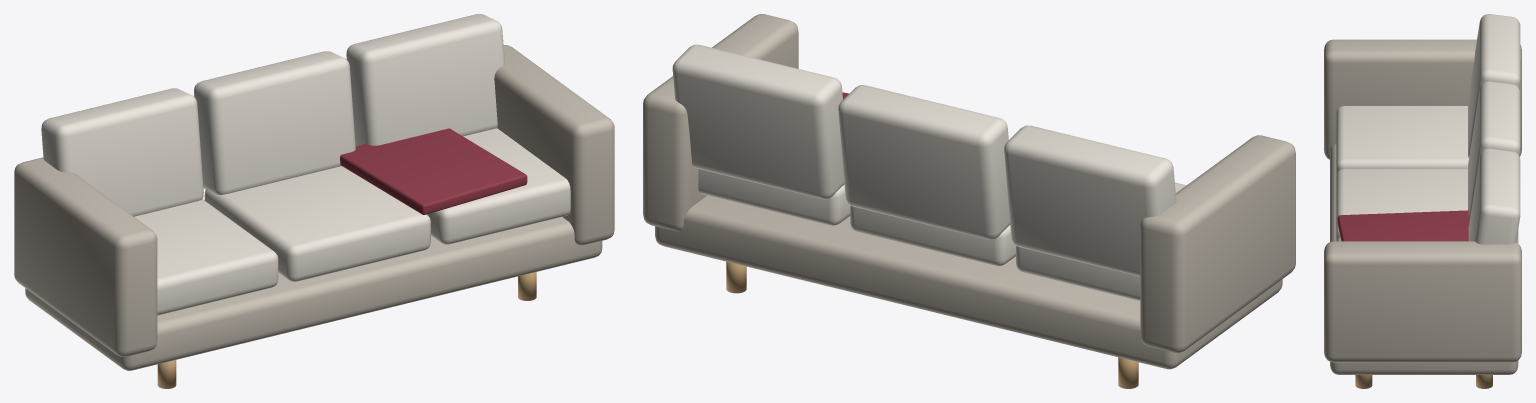
The model's file is sofa.glb.
3 renders of one model, left to right at view 1: azimuth 30°, elevation 25°; view 2: azimuth 150°, elevation 25°; view 3: azimuth 270°, elevation 25°, orthographic. The views are drawn at different scales.
Parts seen in each view (by area): view 1: CANONICAL frame, CANONICAL arm, CANONICAL back 2, CANONICAL back 3, CANONICAL seat 2, CANONICAL back 1, CANONICAL arm.001, CANONICAL seat 1, ACCENT throw, CANONICAL seat 3, ACCENT oak foot; view 2: CANONICAL frame, CANONICAL arm, CANONICAL back 2, CANONICAL back 3, CANONICAL back 1, CANONICAL arm.001, CANONICAL seat 2, CANONICAL seat 3, CANONICAL seat 1, ACCENT oak foot.001, ACCENT oak foot.003; view 3: CANONICAL arm.001, CANONICAL arm, CANONICAL seat 1, CANONICAL seat 2, CANONICAL back 3, ACCENT throw, CANONICAL back 1, CANONICAL back 2, CANONICAL frame, ACCENT oak foot.002, ACCENT oak foot.003.
Boxes of the visible parts, box(x1,y1,x2,y2) form: CANONICAL frame: box(25, 217, 602, 370); CANONICAL arm: box(14, 157, 157, 356); CANONICAL back 2: box(194, 51, 355, 194); CANONICAL back 3: box(346, 14, 504, 146); CANONICAL seat 2: box(204, 166, 430, 281); CANONICAL back 1: box(41, 88, 203, 216); CANONICAL arm.001: box(494, 45, 614, 245); CANONICAL seat 1: box(134, 199, 278, 315); ACCENT throw: box(340, 128, 527, 214); CANONICAL seat 3: box(427, 128, 570, 244); ACCENT oak foot: box(157, 360, 176, 388); CANONICAL frame: box(655, 195, 1282, 369); CANONICAL arm: box(1140, 135, 1295, 353); CANONICAL back 2: box(838, 85, 1010, 239); CANONICAL back 3: box(672, 44, 844, 199); CANONICAL back 1: box(1004, 125, 1176, 276); CANONICAL arm.001: box(643, 14, 798, 231); CANONICAL seat 2: box(850, 205, 1015, 266); CANONICAL seat 3: box(698, 169, 850, 225); CANONICAL seat 1: box(1016, 182, 1186, 300); ACCENT oak foot.001: box(1118, 357, 1138, 388); ACCENT oak foot.003: box(726, 261, 746, 293); CANONICAL arm.001: box(1324, 241, 1521, 362); CANONICAL arm: box(1324, 39, 1521, 159); CANONICAL seat 1: box(1336, 106, 1468, 174); CANONICAL seat 2: box(1336, 168, 1467, 241); CANONICAL back 3: box(1468, 148, 1520, 244); ACCENT throw: box(1337, 210, 1470, 241); CANONICAL back 1: box(1468, 14, 1520, 157); CANONICAL back 2: box(1468, 81, 1520, 216); CANONICAL frame: box(1330, 144, 1518, 374); ACCENT oak foot.002: box(1355, 375, 1372, 388); ACCENT oak foot.003: box(1476, 375, 1492, 388).
Size of the model in its own units: 2.16 by 0.8995 by 0.82.
